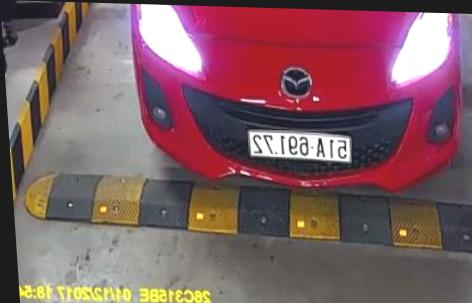License_Plate: (244, 129, 355, 163)
